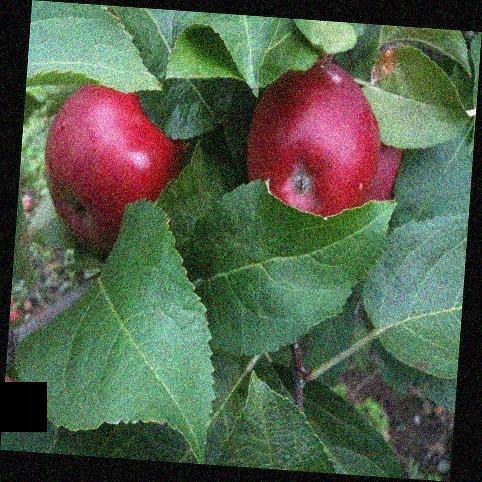red apple: (39, 79, 195, 256), (242, 59, 399, 221)
